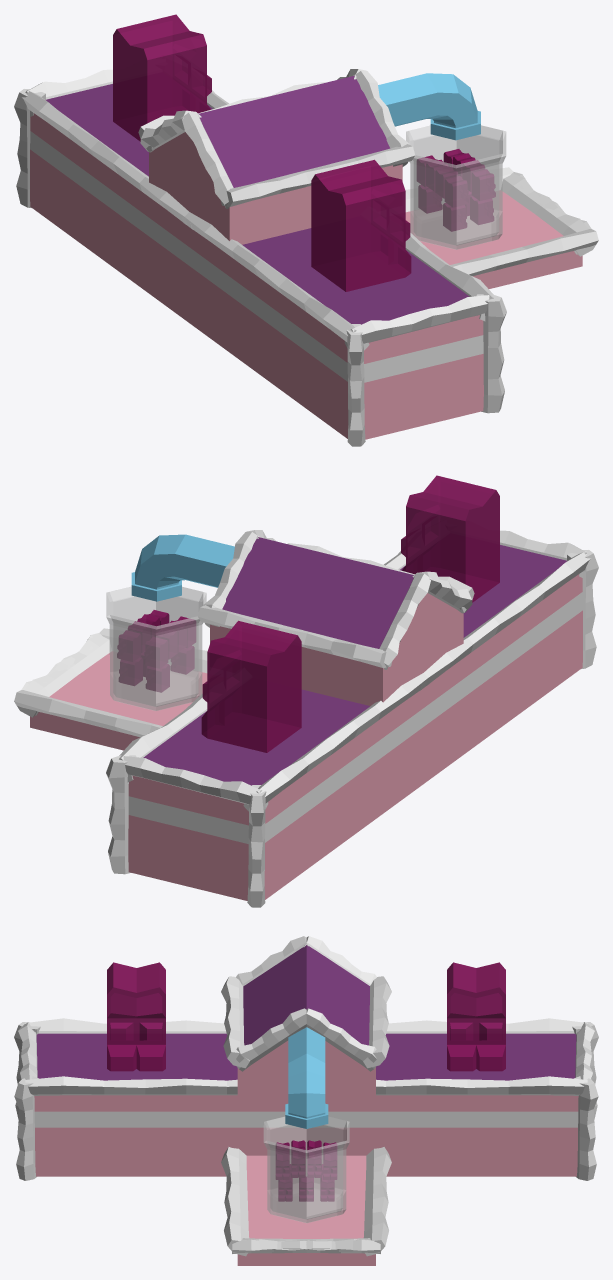
The model's file is Tower_Support_Speed.fbx.
3 renders of one model, top to bottom at view 1: azimuth 30°, elevation 25°; view 2: azimuth 150°, elevation 25°; view 3: azimuth 270°, elevation 25°, orthographic. The views are drawn at different scales.
Parts seen in each view (by area): view 1: Cube.001, Cube.057, Cube.058, Cylinder.005, Cube.060; view 2: Cube.001, Cube.057, Cube.058, Cylinder.005, Cube.060; view 3: Cube.001, Cube.057, Cube.058, Cylinder.005, Cube.060.
Boxes of the visible parts, x1,y1,x2,y2 form: Cube.001: (30,75,582,439); Cube.057: (14,69,598,446); Cube.058: (113,14,411,291); Cylinder.005: (378,73,506,249); Cube.060: (417,149,495,231); Cube.001: (30,537,582,900); Cube.057: (14,530,598,907); Cube.058: (201,475,499,752); Cylinder.005: (106,534,234,710); Cube.060: (117,610,195,692); Cube.001: (34,945,578,1265); Cube.057: (14,936,598,1256); Cube.058: (107,962,505,1071); Cylinder.005: (263,1027,349,1223); Cube.060: (276,1140,336,1201).
Size of the model in its own units: 177 by 94.36 by 274.
